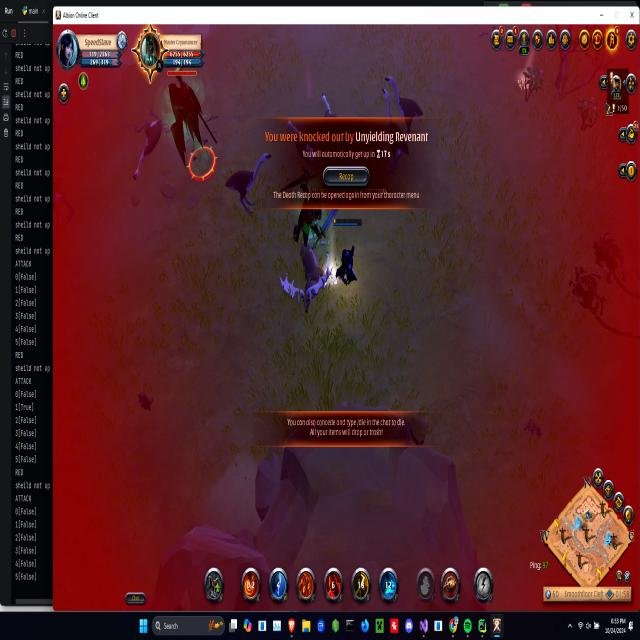hide: (522, 62, 544, 104), (578, 94, 600, 134)
mob: (280, 235, 332, 320), (132, 102, 164, 188)
ore: (164, 68, 222, 185), (379, 66, 427, 178), (284, 168, 326, 254), (226, 149, 270, 220)
red: (329, 215, 364, 292)
